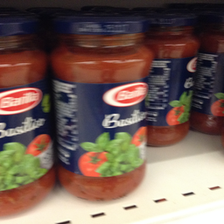tomato_sauce: (51, 20, 154, 200), (1, 19, 58, 217), (143, 17, 200, 145)
